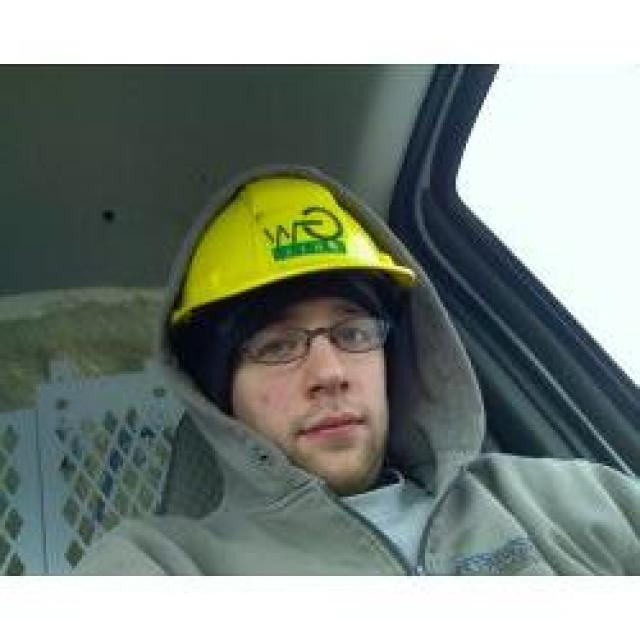safety_helmet: (151, 166, 435, 335)
